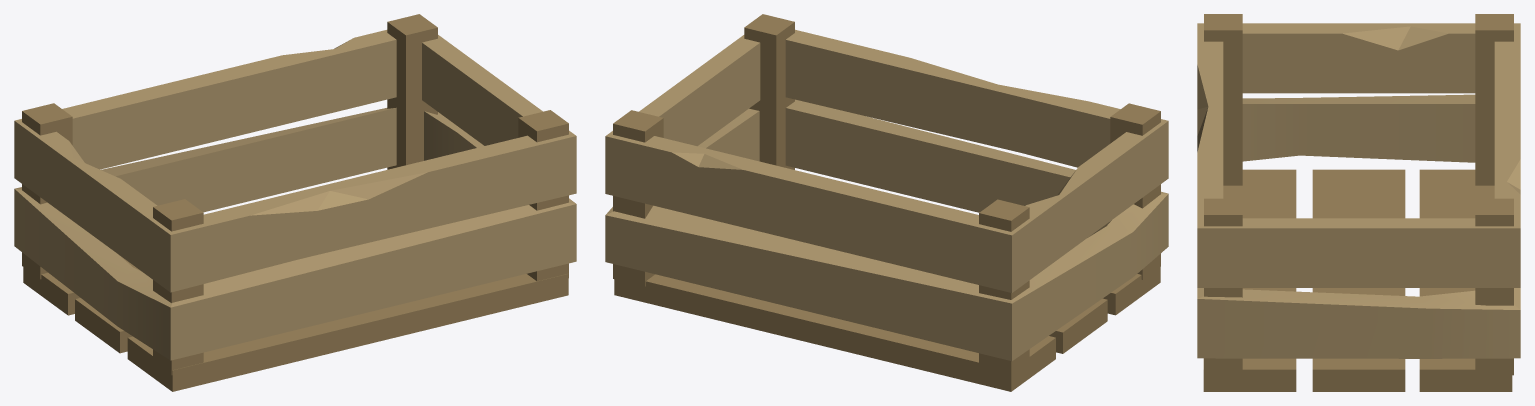
File: SM_Prop_Slatbox_01.fbx
3 views of the same model, side by side, from view 1: azimuth 30°, elevation 25°; view 2: azimuth 150°, elevation 25°; view 3: azimuth 270°, elevation 25° (orthographic). The views are drawn at different scales.
Visible parts, largest first — view 1: SM_Prop_Slatbox_01; view 2: SM_Prop_Slatbox_01; view 3: SM_Prop_Slatbox_01.
Boxes of the visible parts, left/top/right/bottom form: SM_Prop_Slatbox_01: left=14, top=14, right=576, bottom=391; SM_Prop_Slatbox_01: left=605, top=14, right=1168, bottom=391; SM_Prop_Slatbox_01: left=1197, top=14, right=1520, bottom=391.
Bounding box in the file's own units: 85.44 × 33.06 × 54.61.
